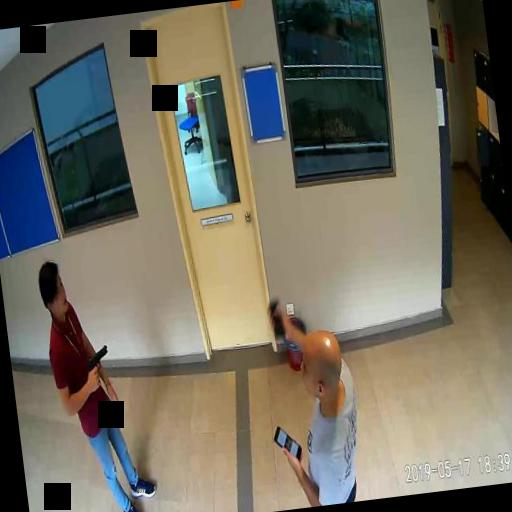Handgun: (84, 343, 110, 385)
